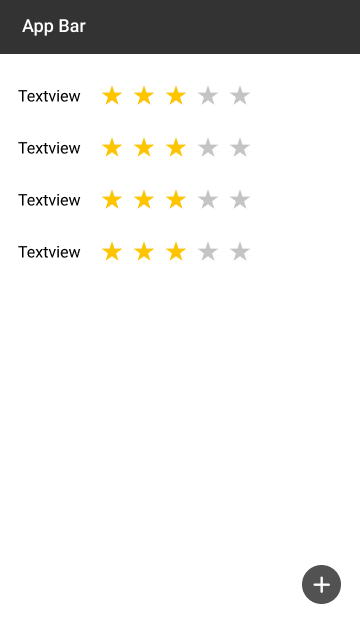floatingButton: (296, 563, 347, 607)
ratingBar: (99, 133, 258, 163), (102, 187, 253, 217), (95, 81, 251, 109), (95, 240, 255, 263)
textView: (18, 240, 83, 264), (18, 192, 85, 212), (18, 138, 83, 158), (19, 87, 80, 102)
toolbar: (1, 1, 360, 56)
